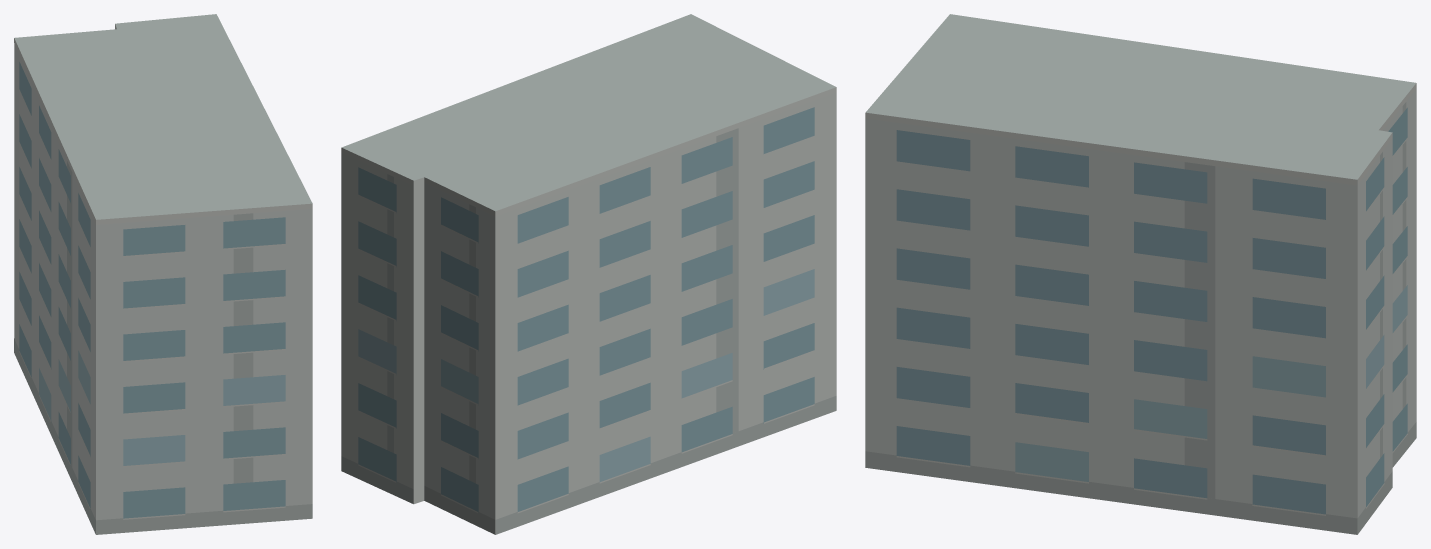
Rendered from survey-upis-32851840.glb.
3 renders of one model, left to right at view 1: azimuth 30°, elevation 25°; view 2: azimuth 150°, elevation 25°; view 3: azimuth 270°, elevation 25°, orthographic. The views are drawn at different scales.
Visible parts, largest first — view 1: survey-upis-32851840.tmp; view 2: survey-upis-32851840.tmp; view 3: survey-upis-32851840.tmp.
Boxes of the visible parts, x1,y1,x2,y2 form: survey-upis-32851840.tmp: (14, 14, 312, 534); survey-upis-32851840.tmp: (341, 14, 836, 534); survey-upis-32851840.tmp: (865, 14, 1416, 534).
Size of the model in its own units: 14.72 by 14.7 by 20.68.
